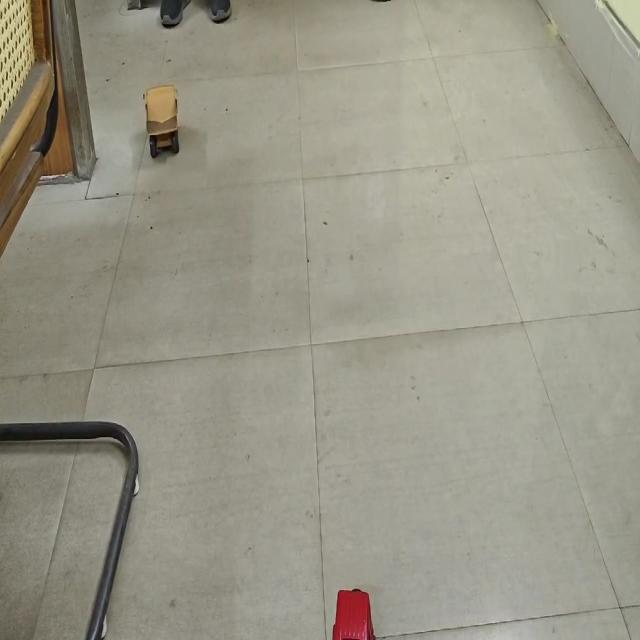dump_truck: (140, 84, 185, 161)
light_vehicle: (330, 585, 373, 640)
